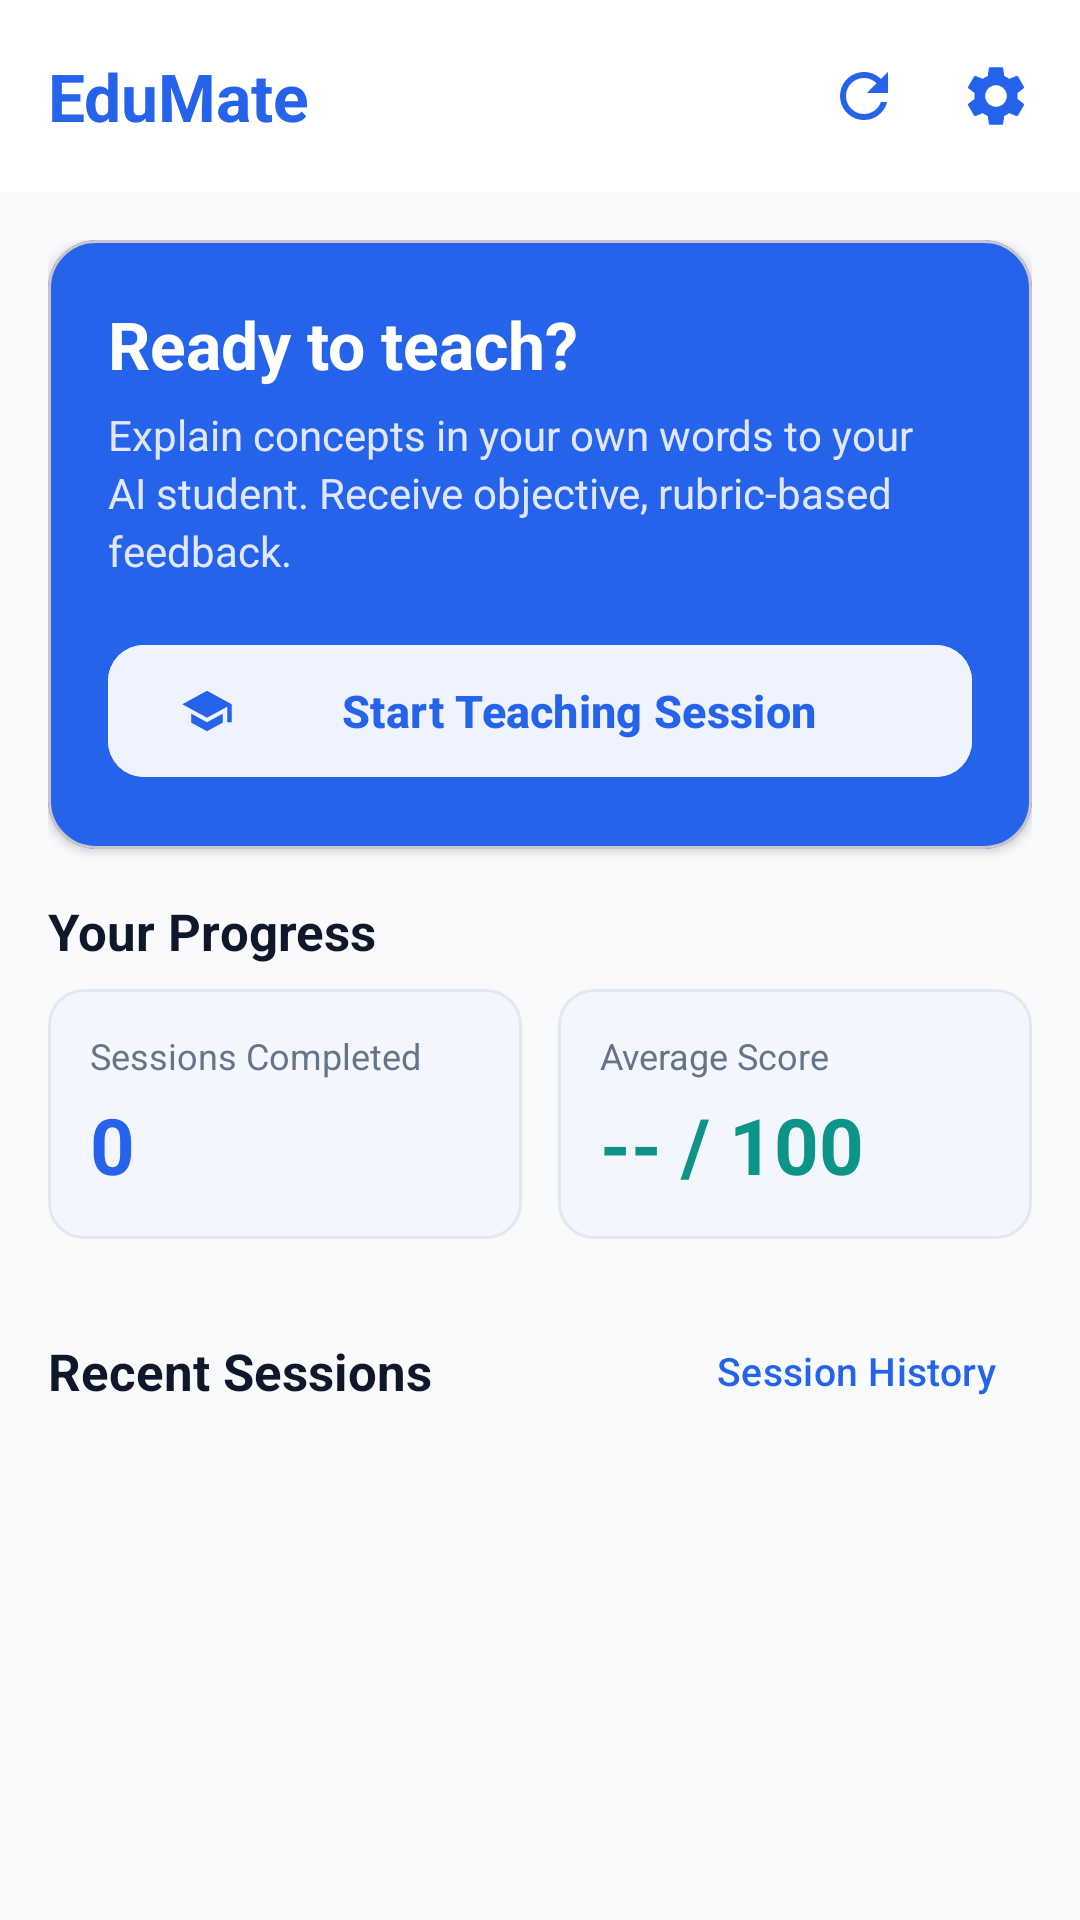

Where to tap for icons on this 1080x1920 app screen, as point (x, y):
Settings & About: point (996, 96)
Sync to Cloud: point (864, 96)
